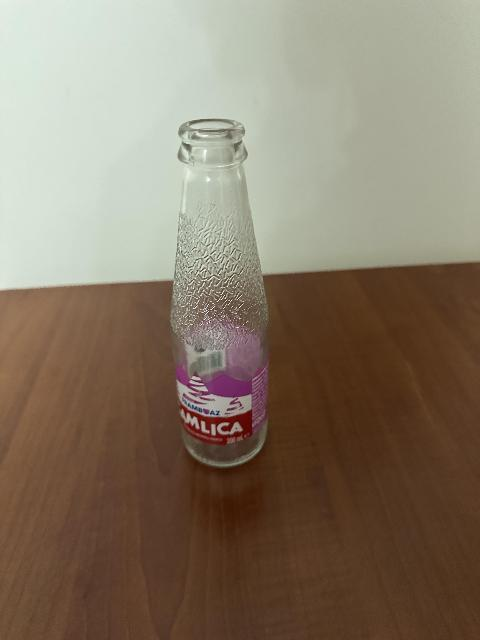Cam: (165, 114, 276, 462)
